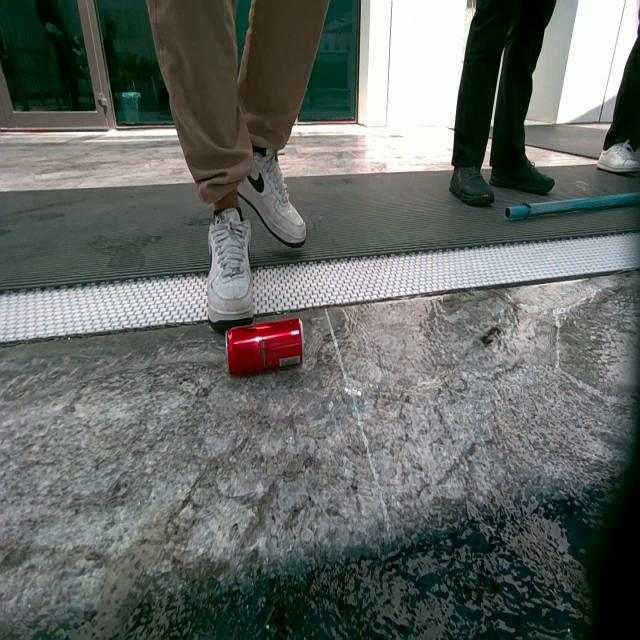Cans: (229, 323, 307, 382)
